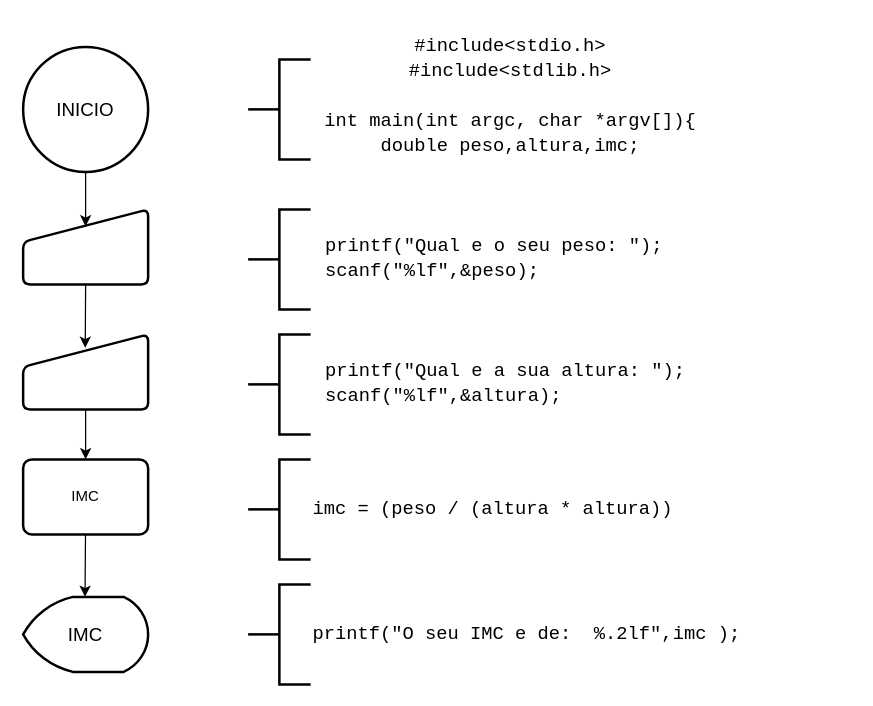
Image size: 873x706. Some labels were removed from this diagram. Here are the shapes that lost their labels. From the top down, the centre of each, then its label:
pixel 85 246: PESO
pixel 85 371: ALTURA
